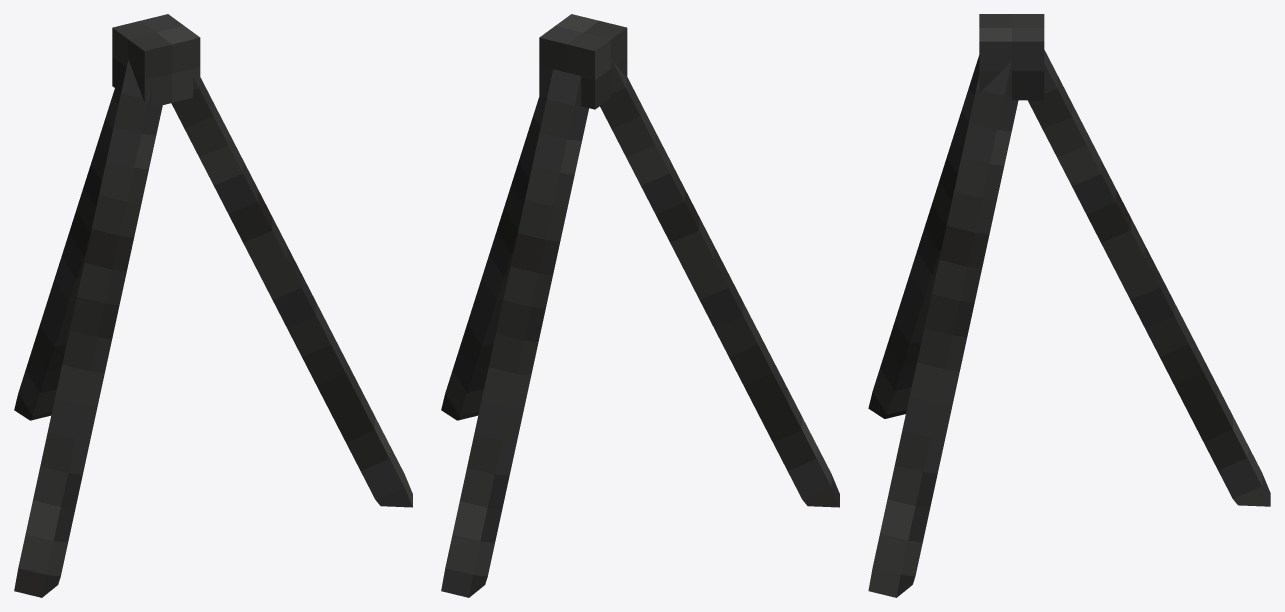
File: tripod.obj
3 views of the same model, side by side, from view 1: azimuth 30°, elevation 25°; view 2: azimuth 150°, elevation 25°; view 3: azimuth 270°, elevation 25° (orthographic).
Visible parts, largest first — view 1: cube; view 2: cube; view 3: cube.
Boxes of the visible parts, box(x1,y1,x2,y2) form: cube: box(14, 14, 412, 597); cube: box(441, 14, 839, 597); cube: box(868, 14, 1270, 597).
Bounding box in the file's own units: 0.8922 × 1 × 0.7726.
